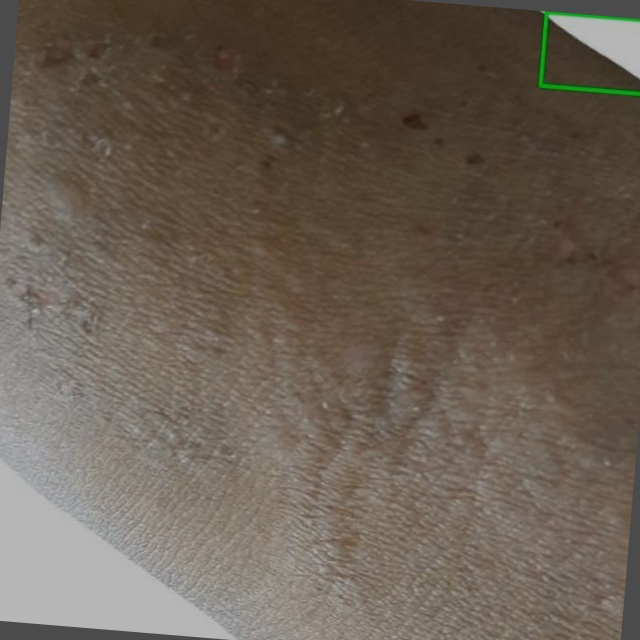Tinea Corporis: (540, 12, 639, 94)
